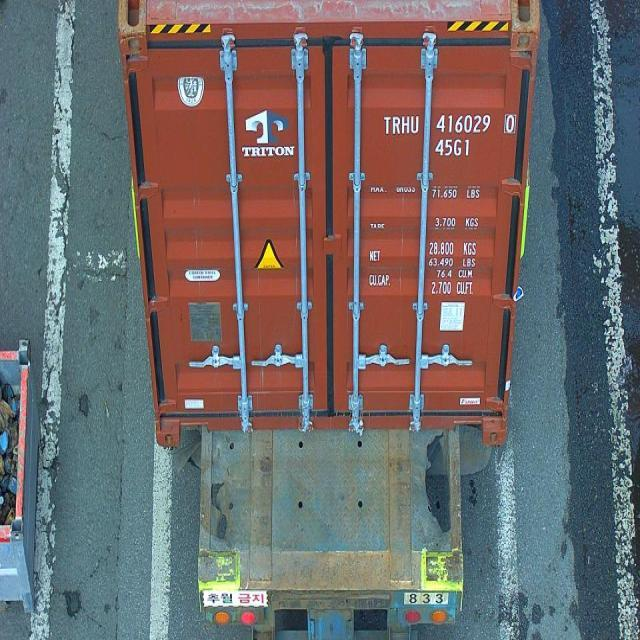ISO: (434, 139, 473, 157)
container_number: (378, 112, 512, 137)
